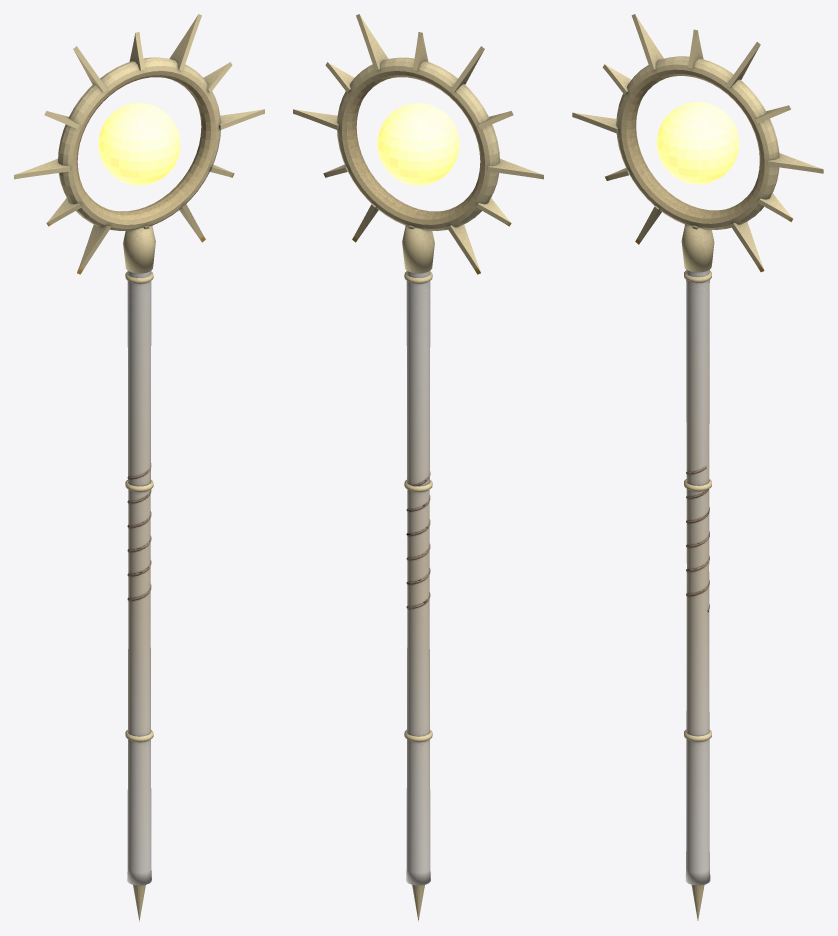
The model's file is arma_lend_cajado_celestial.glb.
3 renders of one model, left to right at view 1: azimuth 30°, elevation 25°; view 2: azimuth 150°, elevation 25°; view 3: azimuth 330°, elevation 25°, orthographic.
Parts seen in each view (by area): view 1: arma_lend_cajado_celestial, Sphere; view 2: arma_lend_cajado_celestial, Sphere; view 3: arma_lend_cajado_celestial, Sphere.
Part boxes in pixels (x1,y1,x2,y2): arma_lend_cajado_celestial: (14, 14, 264, 921); Sphere: (98, 103, 180, 185); arma_lend_cajado_celestial: (293, 14, 543, 921); Sphere: (377, 103, 459, 185); arma_lend_cajado_celestial: (572, 14, 823, 920); Sphere: (656, 102, 739, 184).
Bounding box in the file's own units: 0.63 × 2.14 × 0.18.
2 materials, 1 textured.
